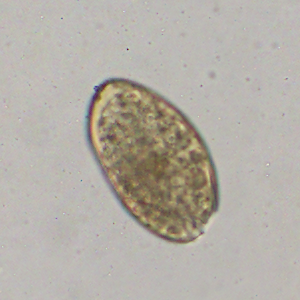Fasciola_hepatica_egg: (83, 76, 221, 245)
